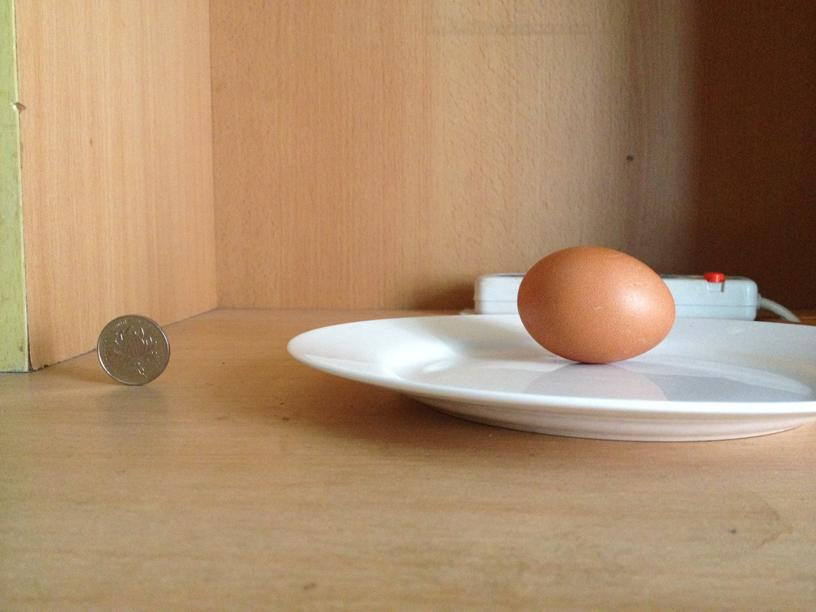coin: (95, 313, 171, 387)
egg: (515, 244, 676, 361)
